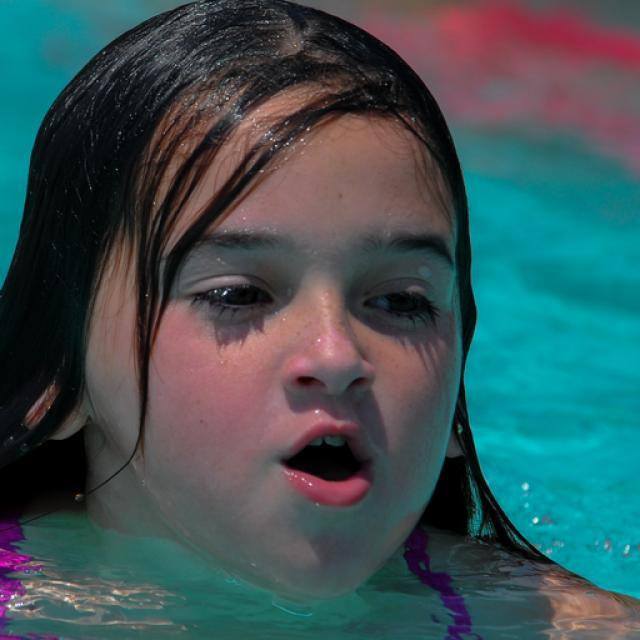surprise: (85, 80, 468, 602)
